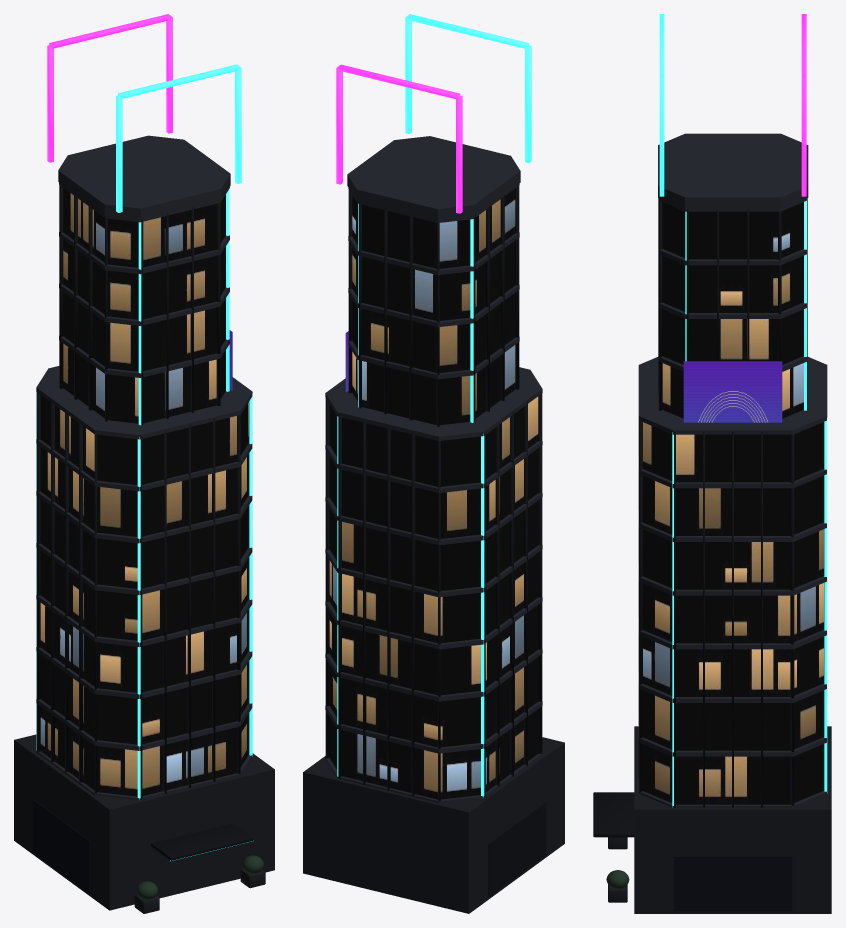
File: neon-v-A.glb
3 views of the same model, side by side, from view 1: azimuth 30°, elevation 25°; view 2: azimuth 150°, elevation 25°; view 3: azimuth 270°, elevation 25° (orthographic). The views are drawn at different scales.
Visible parts, largest first — view 1: Building; view 2: Building; view 3: Building.
Boxes of the visible parts, x1,y1,x2,y2 form: Building: [14, 14, 274, 913]; Building: [303, 14, 564, 913]; Building: [593, 14, 831, 913].
Size of the model in its own units: 12.1 by 55.55 by 14.5.
Materials: 9 (2 with a texture image).
